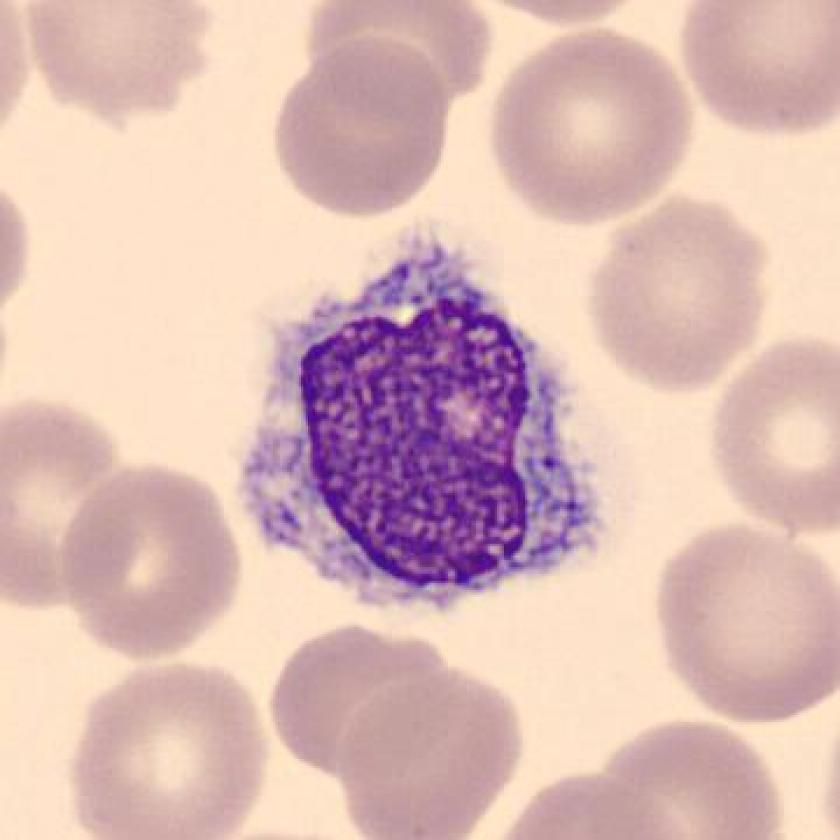monocyte: (221, 212, 627, 642)
